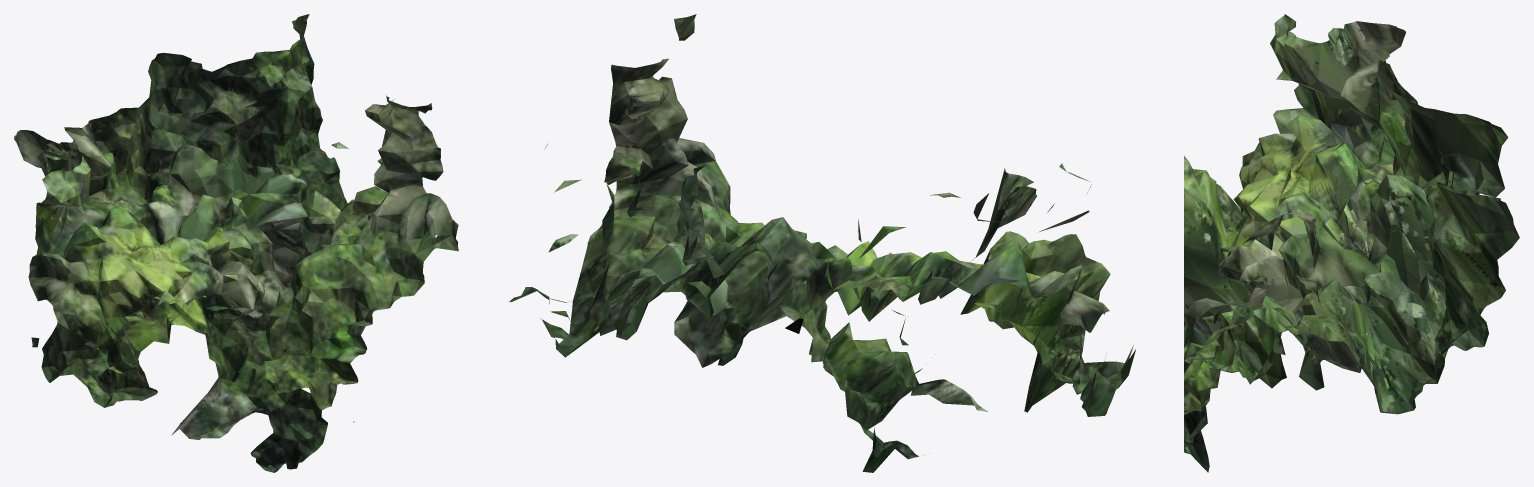
3 views of the same model, side by side, from view 1: azimuth 30°, elevation 25°; view 2: azimuth 150°, elevation 25°; view 3: azimuth 270°, elevation 25° (orthographic). The views are drawn at different scales.
Bounding box in the file's own units: 26.11 × 21.37 × 18.95.
4 materials, 4 textured.
